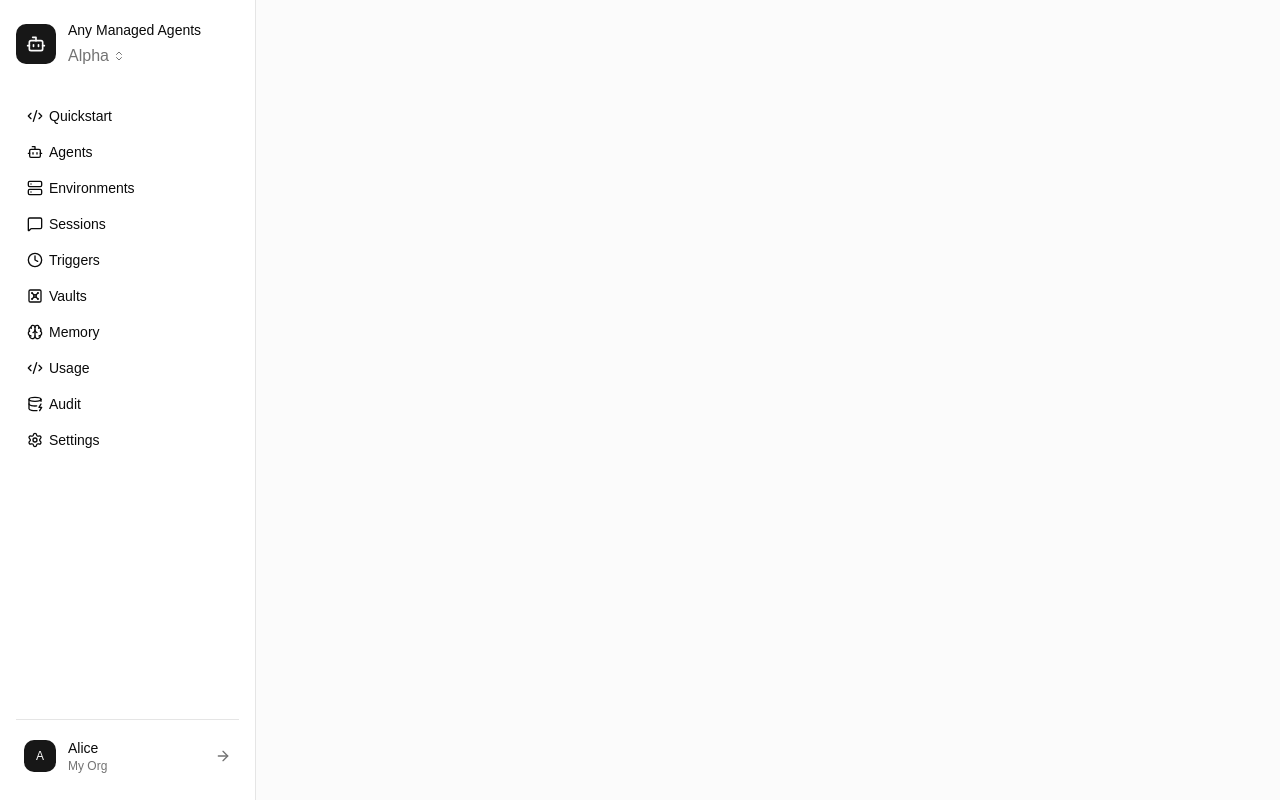
Test: [spec: console/shell] ConsoleShell › [spec: web-console/project-switcher] opens the create-project form from the switcher
Press the mouse on the button with aria-label "Switch project" at point(96, 56), box [68,44,125,68]
Click the button with aria-label "Switch project" at point(96, 56), box [68,44,125,68]
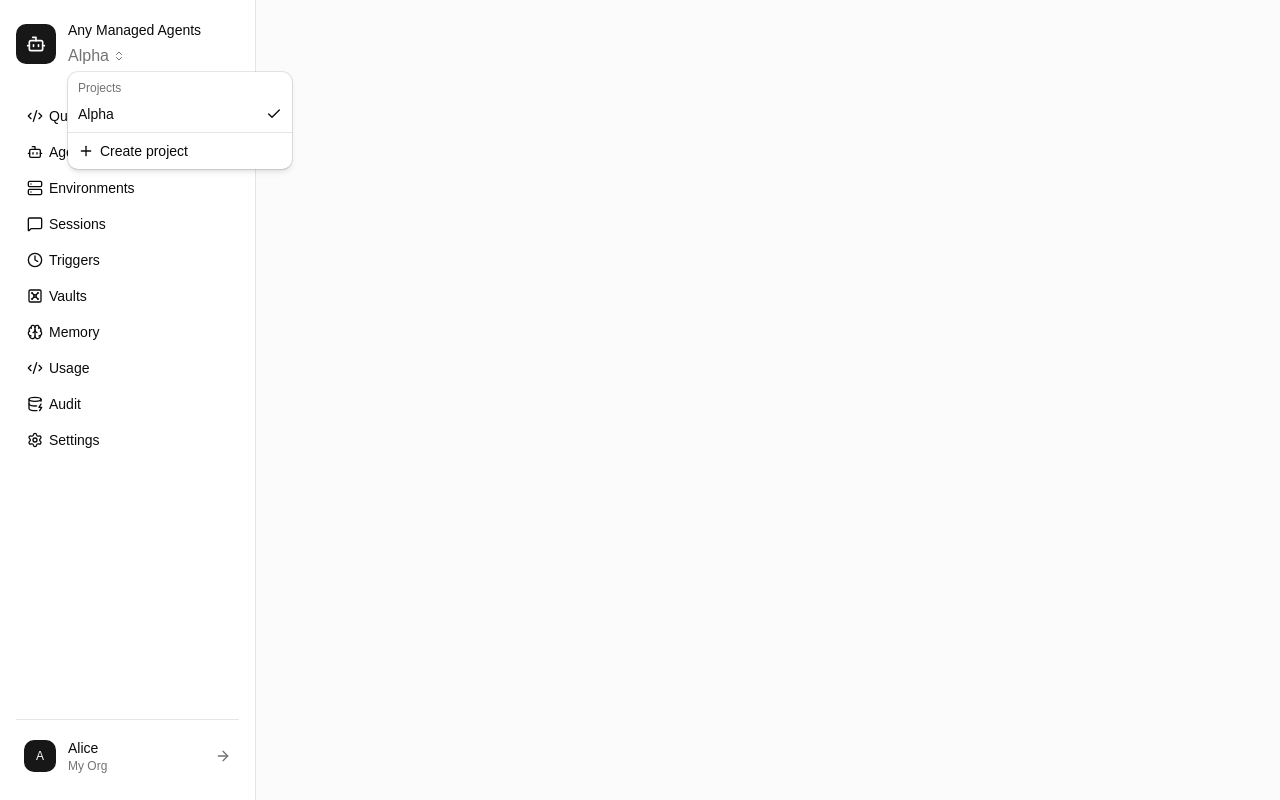
Click the menu item "Create project" at point(133, 151), box [78,143,188,159]
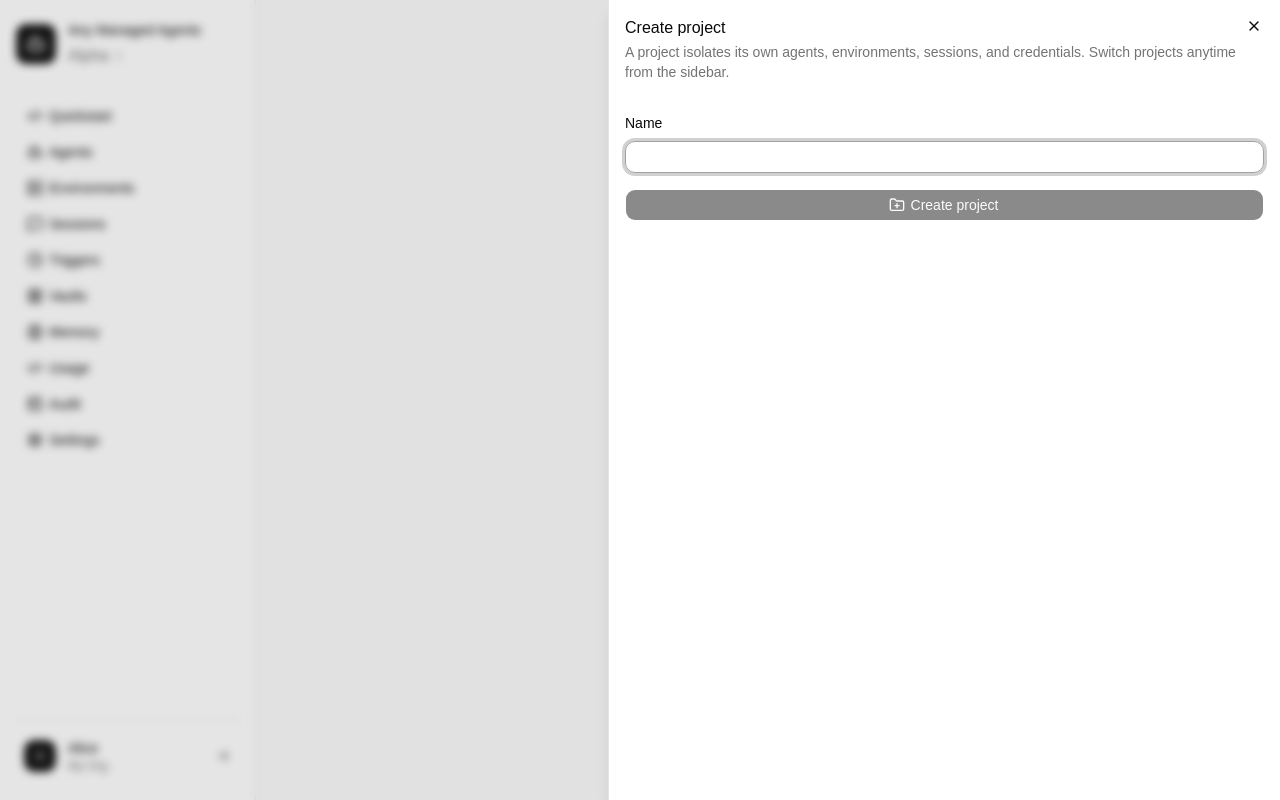
Result: the text "A project isolates its own" is shown at [625,44,1236,80]
